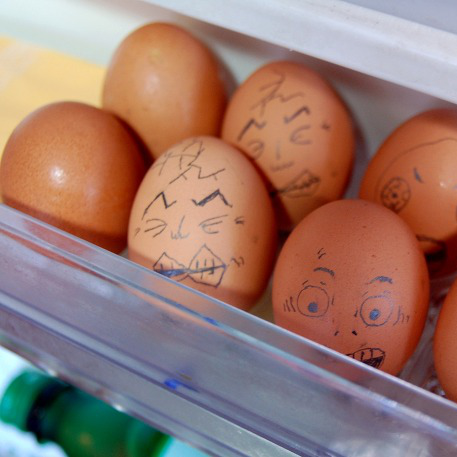egg: (1, 23, 457, 396)
